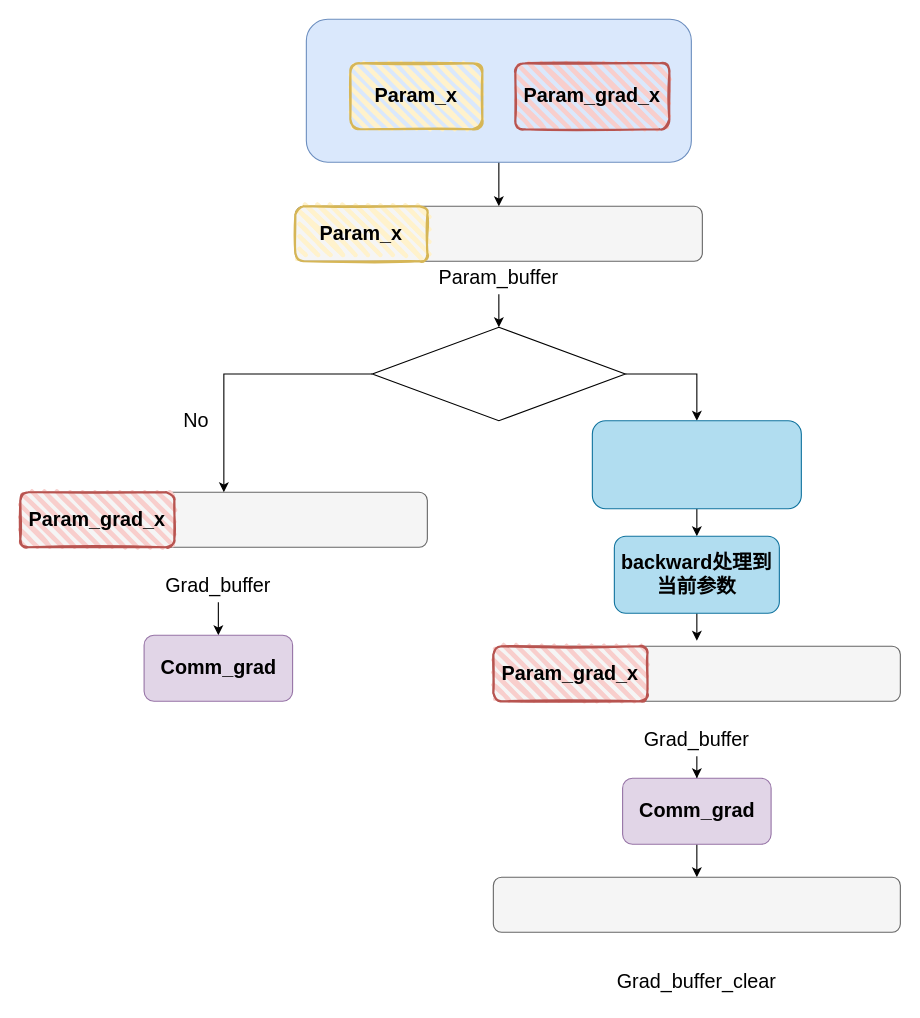
This 920x1018 diagram has some shape labels left out. Each missing label, with the centre of its shape:
"is_relese_grad" belongs at [498,373].
"param.add_backward _hook" belongs at [696,464].
